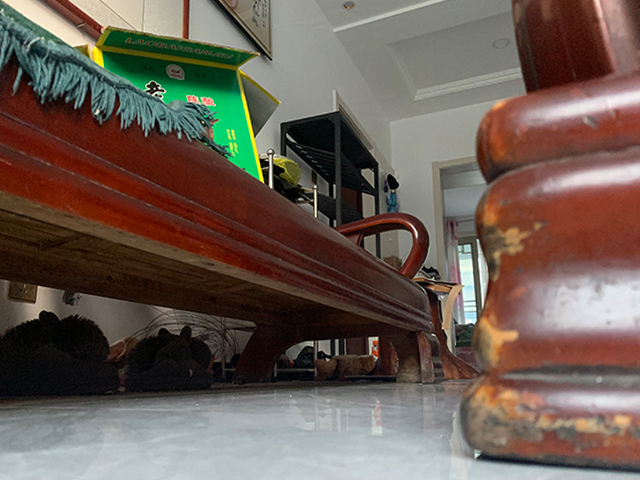sofa: (1, 1, 436, 385)
